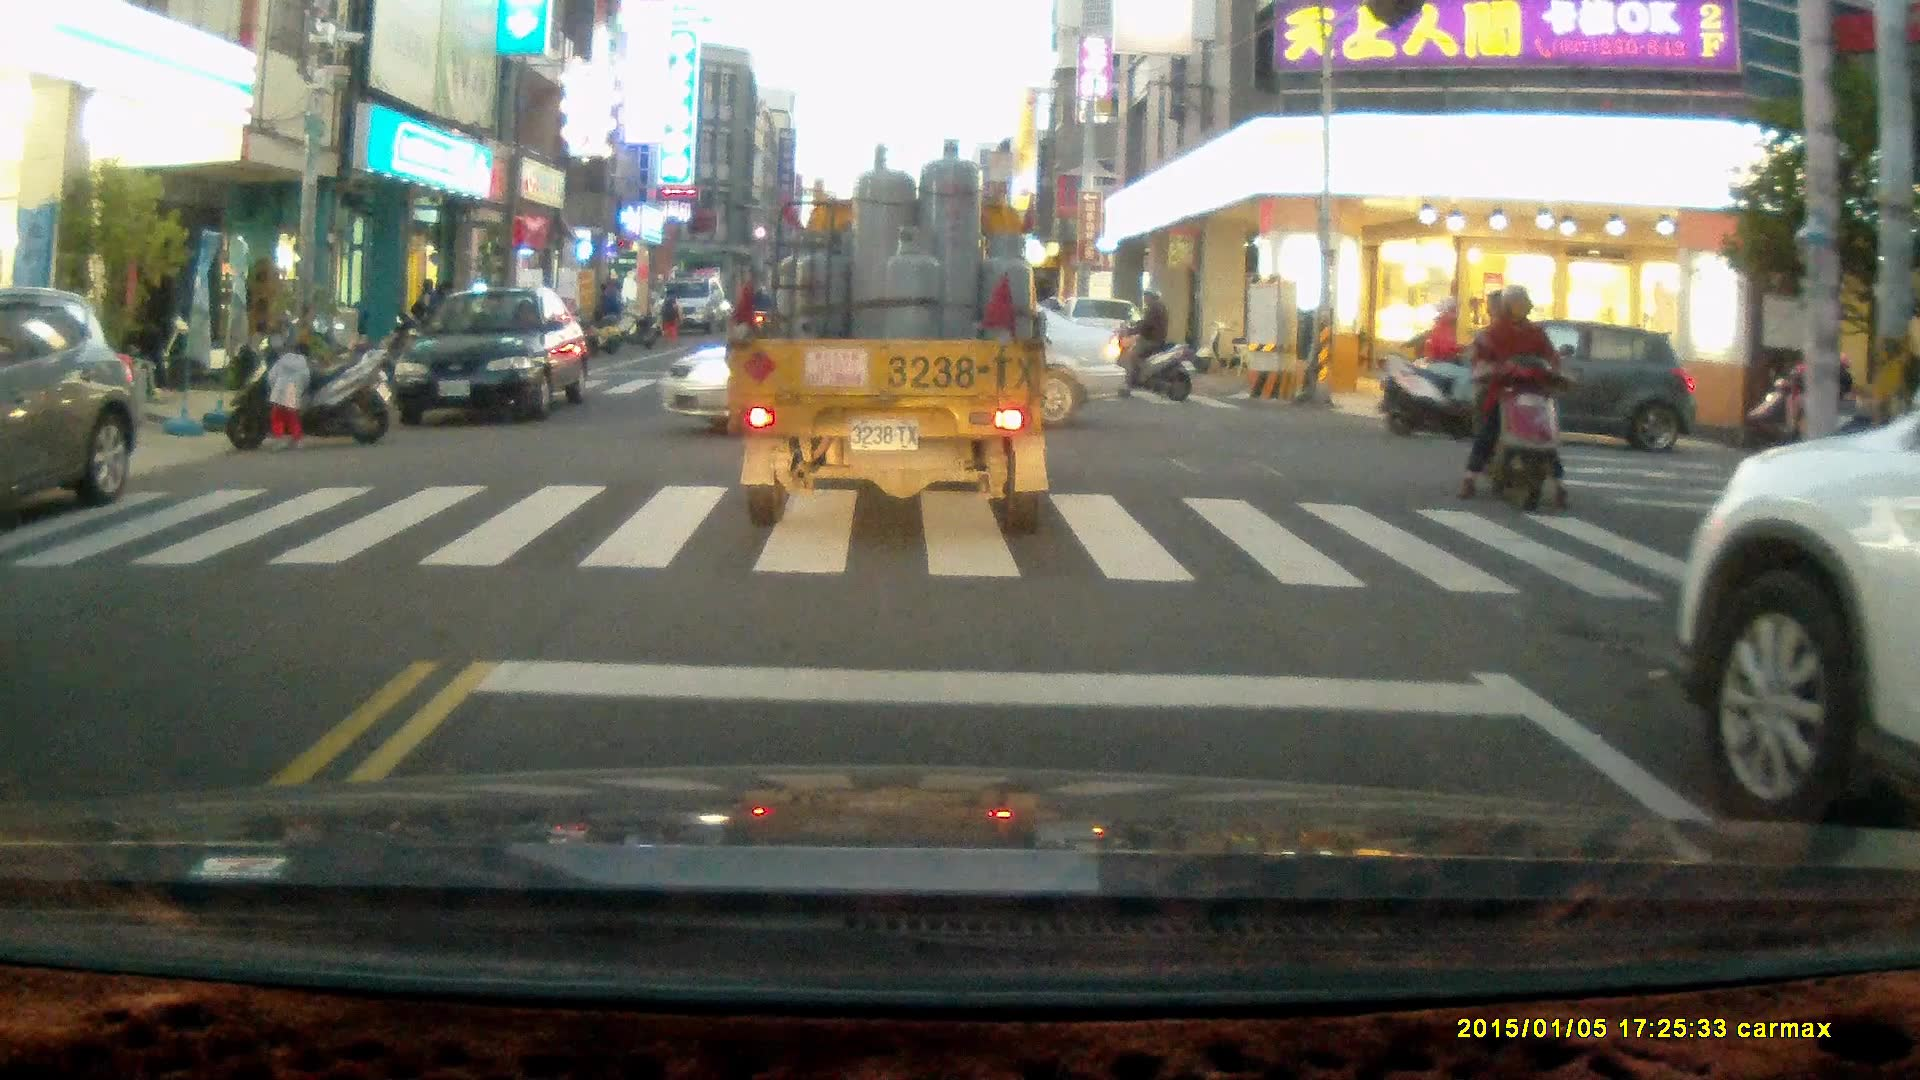pedestrian: (265, 339, 314, 454), (600, 278, 627, 340), (659, 286, 683, 344)
rider: (1457, 285, 1573, 516), (1381, 298, 1522, 443), (1738, 339, 1853, 462), (1098, 283, 1193, 403)
vehicle: (723, 136, 1052, 529), (1666, 397, 1920, 828), (1392, 324, 1693, 456), (388, 290, 591, 425), (653, 279, 729, 335)
